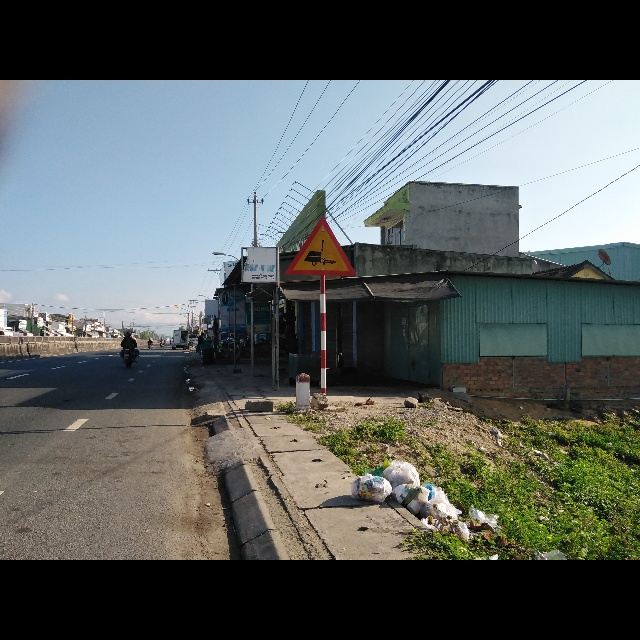Đoạn đường hay xảy ra tai nạn: (286, 213, 358, 277)
